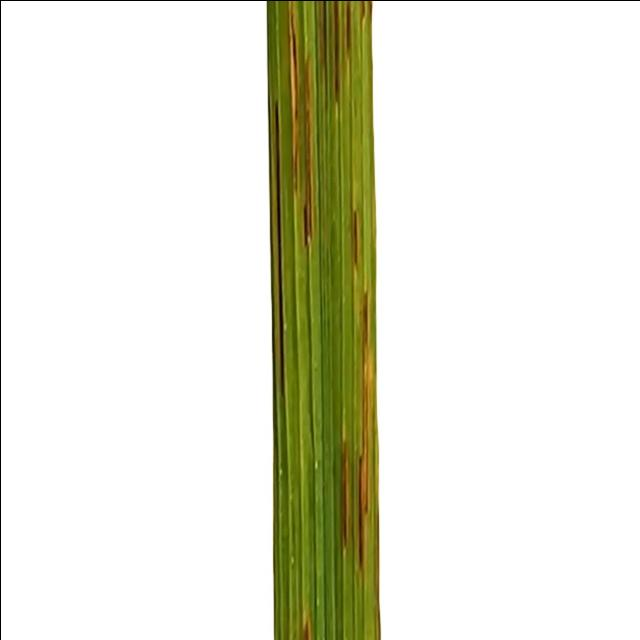Narrow brown: (190, 0, 483, 640)
